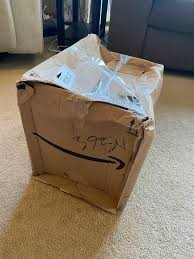damaged package: (19, 35, 166, 149), (28, 173, 119, 219)
